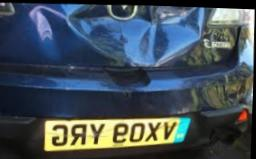Bumper: (125, 67, 250, 156)
Dickey: (0, 2, 237, 70)
